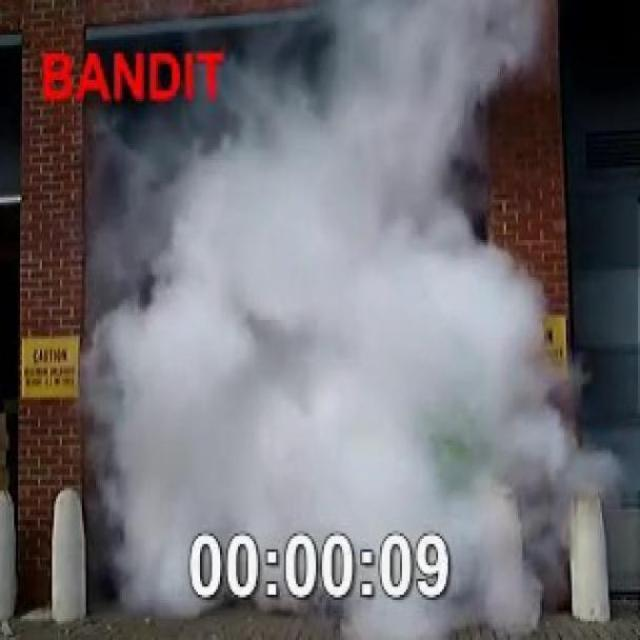Smoke: (82, 0, 612, 616)
